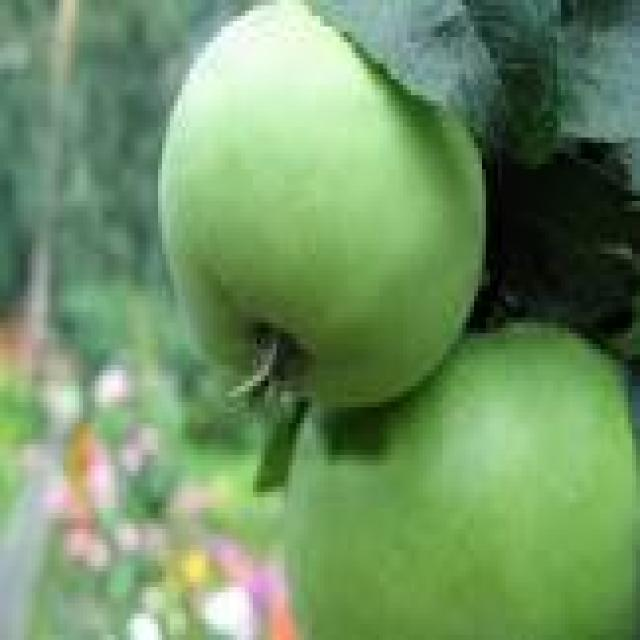apple: (159, 0, 485, 407), (285, 323, 639, 639)
